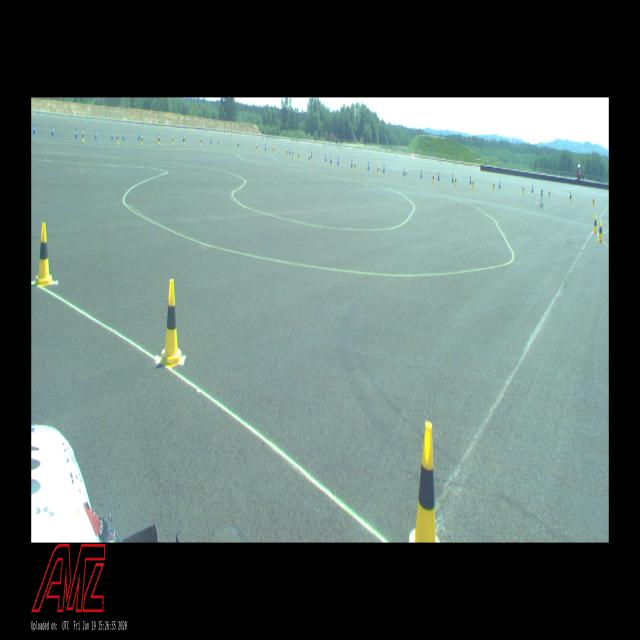blue_cone: (94, 128, 98, 140), (33, 123, 36, 135), (51, 125, 54, 137), (75, 127, 78, 139), (111, 130, 114, 142), (437, 171, 440, 181), (469, 175, 472, 185), (451, 174, 454, 183), (531, 184, 534, 193), (182, 134, 185, 142), (498, 180, 501, 188), (123, 131, 125, 141), (330, 154, 332, 164), (351, 158, 353, 168), (403, 166, 405, 176), (138, 131, 140, 140), (210, 136, 212, 145), (337, 156, 339, 165), (383, 164, 385, 173), (420, 169, 422, 178), (238, 140, 240, 148), (367, 162, 369, 170), (264, 144, 266, 151), (289, 147, 291, 154), (311, 150, 312, 158), (325, 154, 326, 161)
yellow_cone: (409, 420, 440, 542), (159, 279, 185, 366), (34, 222, 53, 287), (597, 220, 604, 243), (592, 214, 598, 234), (592, 195, 595, 206), (492, 181, 495, 191), (183, 136, 186, 145), (82, 130, 84, 143), (141, 134, 143, 146), (255, 144, 258, 152), (432, 172, 434, 184), (455, 176, 457, 187), (472, 178, 474, 189), (522, 184, 524, 195), (117, 134, 119, 144), (298, 151, 300, 161), (405, 169, 407, 179), (548, 189, 550, 199), (570, 193, 572, 202), (158, 136, 160, 145), (218, 139, 220, 148), (286, 148, 288, 157), (292, 149, 294, 158), (308, 154, 310, 163), (354, 162, 356, 171), (378, 165, 380, 174), (172, 136, 174, 144), (200, 138, 202, 146), (330, 159, 332, 167), (273, 145, 274, 154), (237, 142, 238, 149)
